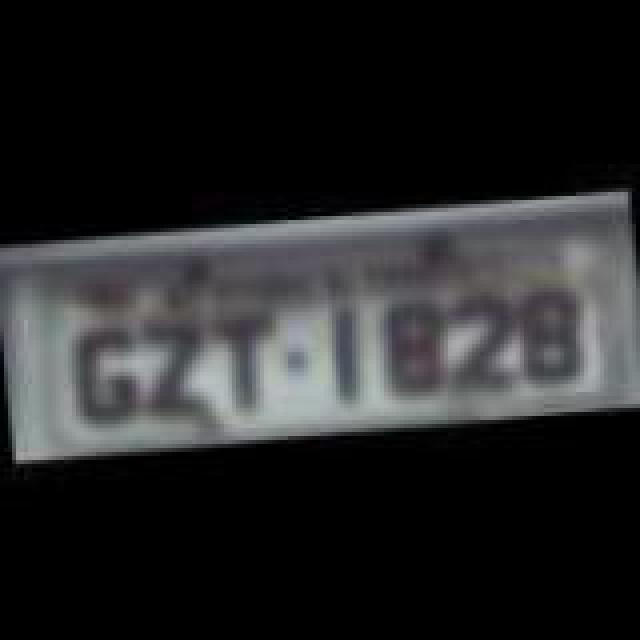1: (322, 294, 366, 402)
2: (440, 284, 520, 396)
8: (510, 274, 586, 386), (382, 288, 450, 396)
G: (66, 320, 142, 428)
T: (208, 310, 280, 418)
Z: (134, 314, 210, 422)
